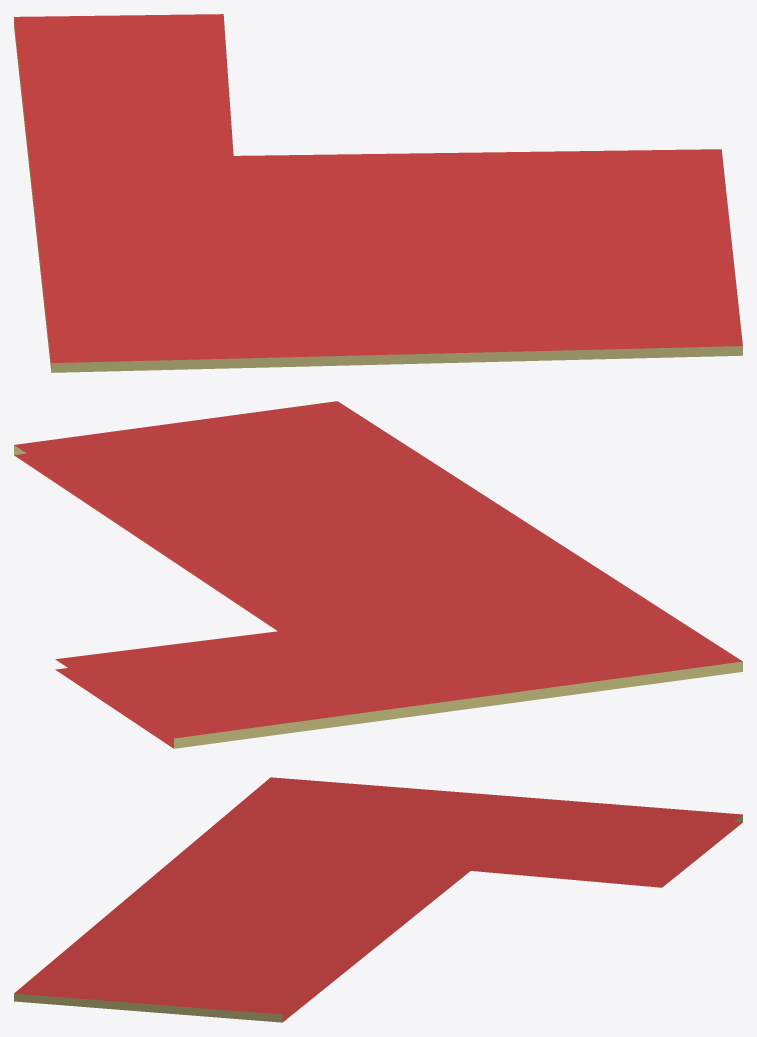
The picture shows the model from 3 angles, top to bottom: view 1: azimuth 30°, elevation 25°; view 2: azimuth 150°, elevation 25°; view 3: azimuth 270°, elevation 25°; orthographic projection. The views are drawn at different scales.
Size of the model in its own units: 7.3 by 8.23 by 0.885.
